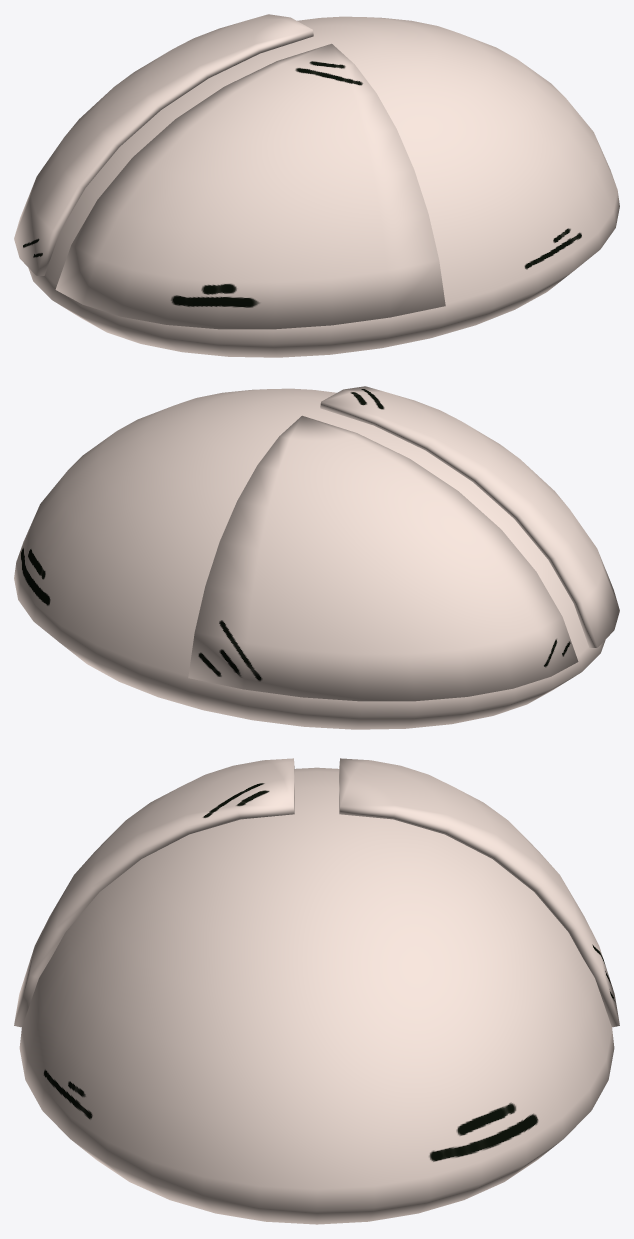
Rendered from F_Mouse.fbx.
3 renders of one model, top to bottom at view 1: azimuth 30°, elevation 25°; view 2: azimuth 150°, elevation 25°; view 3: azimuth 270°, elevation 25°, orthographic. The views are drawn at different scales.
Visible parts, largest first — view 1: Sphere.001; view 2: Sphere.001; view 3: Sphere.001.
Boxes of the visible parts, <box> form: Sphere.001: <box>14,14,619,357</box>; Sphere.001: <box>14,386,619,729</box>; Sphere.001: <box>14,758,619,1224</box>.
Bounding box in the file's own units: 4159 × 1614 × 3243.
